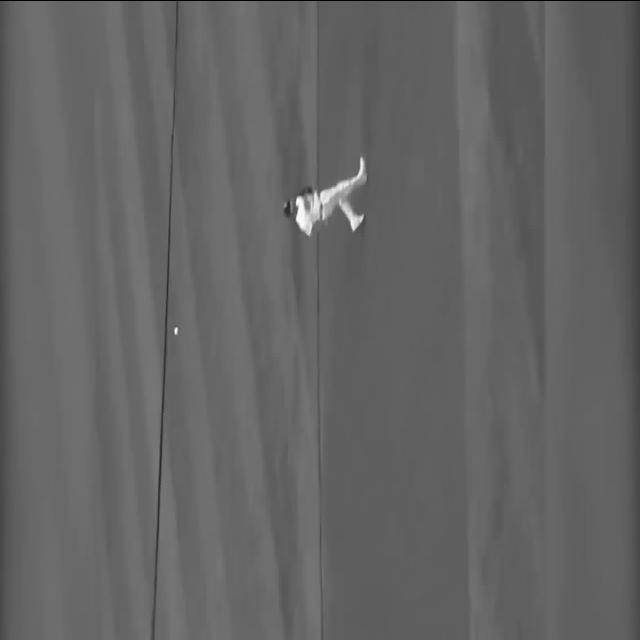baseball: (174, 324, 179, 335)
shoe: (356, 155, 368, 184), (350, 213, 365, 231)
